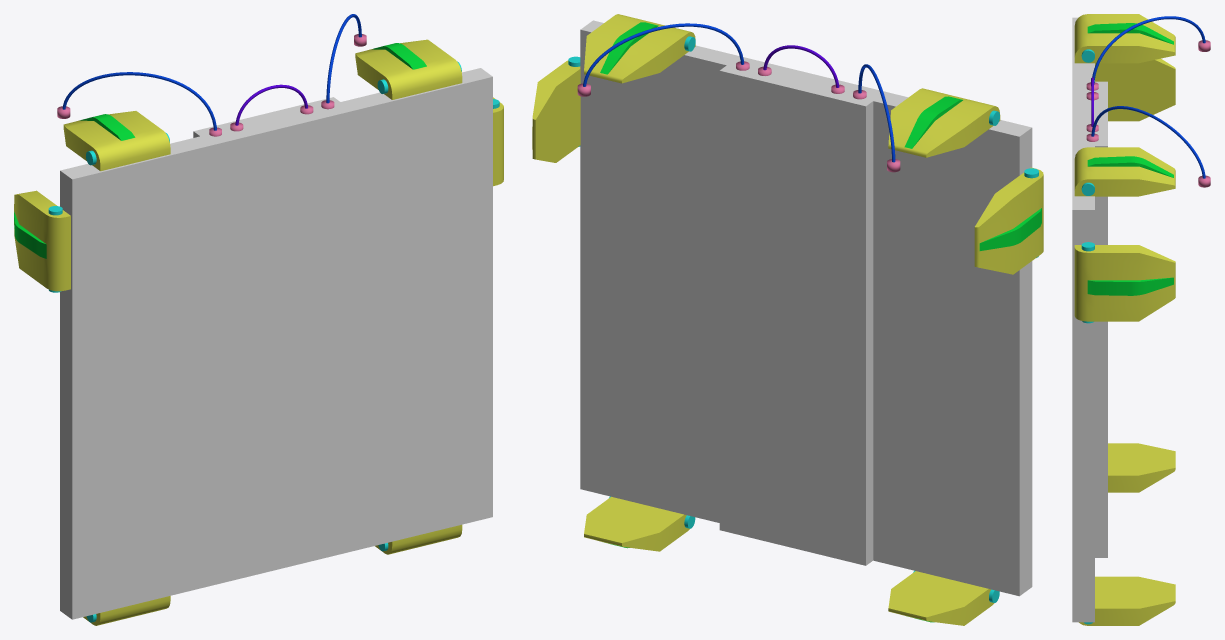
File: mesh_unit.fbx
3 renders of one model, left to right at view 1: azimuth 30°, elevation 25°; view 2: azimuth 150°, elevation 25°; view 3: azimuth 270°, elevation 25°, orthographic. The views are drawn at different scales.
Visible parts, largest first — view 1: powerunit, Attach3, Attach1, Attach2, Attach6, Attach5, Attach4; view 2: powerunit, Attach3, Attach1, Attach2, Attach4, Attach5, Attach6; view 3: powerunit, Attach4, Attach2, Attach1, Attach3, Attach6, Attach5.
Part boxes in pixels (x1,y1,x2,y2): powerunit: [57, 14, 492, 619]; Attach3: [14, 190, 70, 292]; Attach1: [63, 111, 170, 171]; Attach2: [355, 39, 462, 99]; Attach6: [375, 524, 462, 554]; Attach5: [83, 596, 170, 625]; Attach4: [493, 97, 503, 186]; powerunit: [577, 20, 1032, 596]; Attach3: [974, 167, 1043, 274]; Attach1: [888, 88, 1000, 157]; Attach2: [584, 14, 695, 83]; Attach4: [532, 56, 580, 162]; Attach5: [888, 570, 999, 625]; Attach6: [584, 496, 695, 551]; powerunit: [1072, 16, 1210, 622]; Attach4: [1074, 242, 1175, 323]; Attach2: [1074, 147, 1175, 196]; Attach1: [1074, 14, 1175, 63]; Attach3: [1095, 58, 1175, 121]; Attach6: [1079, 576, 1175, 625]; Attach5: [1108, 443, 1175, 492].
Size of the model in its own units: 0.6609 by 0.7 by 0.1823.
